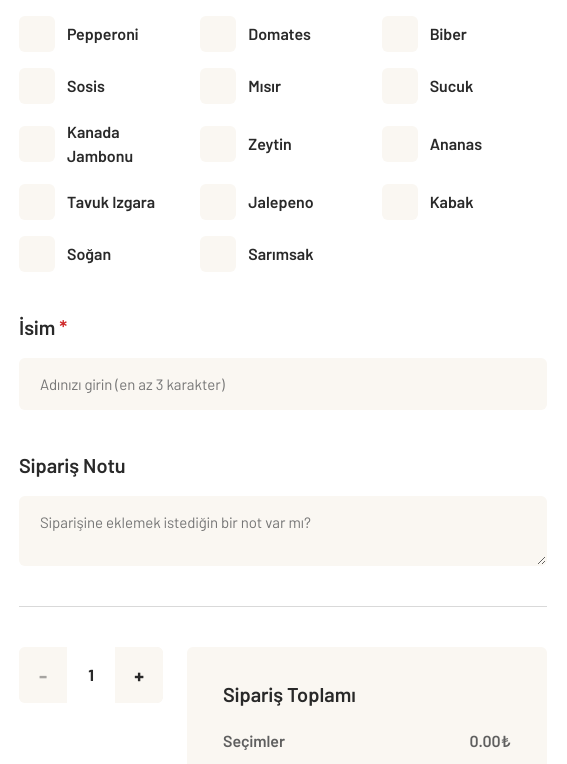
it: Sipariş formu › isim 3 karakterden kısaysa hata gösteriyor
(page scrolled)
Type "ab" into the field with id "isim". click: point(283, 384)
box: top-left (19, 358), bottom-right (547, 410)
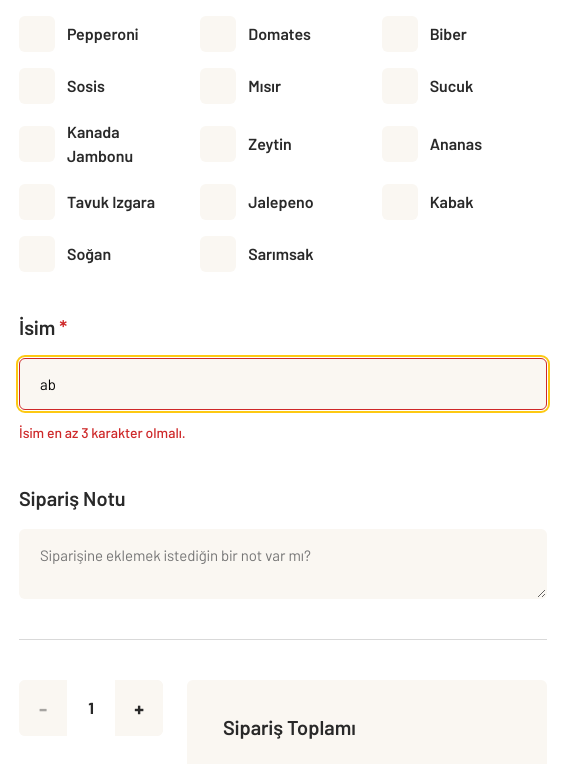
Now the text "İsim en az 3 karakter olmalı." is shown, box top-left (19, 424), bottom-right (186, 441)
Type "c" into the field with id "isim". click: point(283, 384)
box: top-left (19, 358), bottom-right (547, 410)
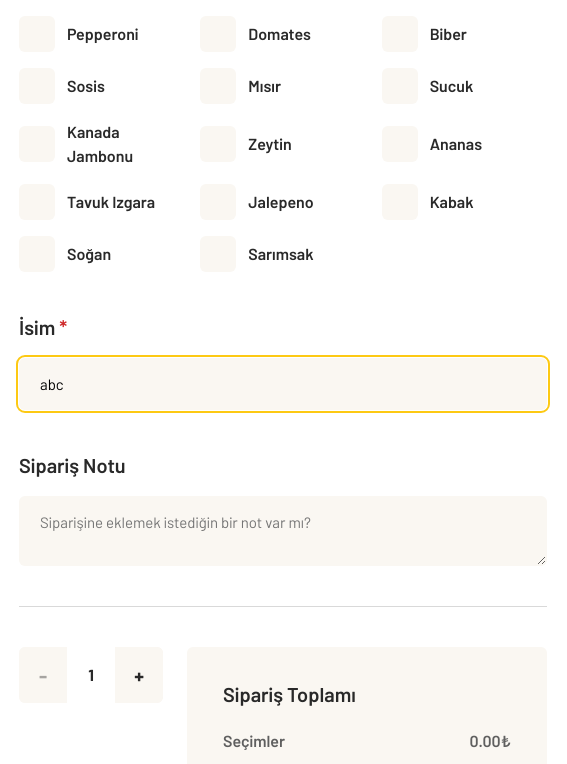
Now the text "İsim en az 3 karakter olmalı." is gone
